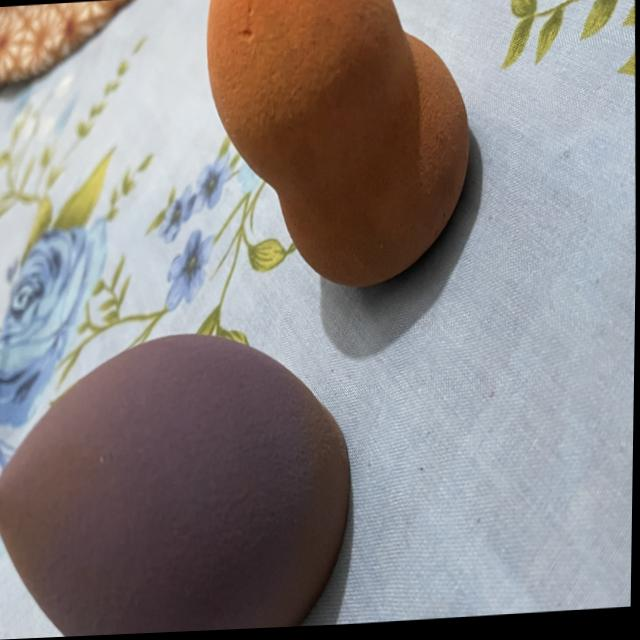beauty blender: (0, 299, 364, 640), (179, 0, 503, 314)
